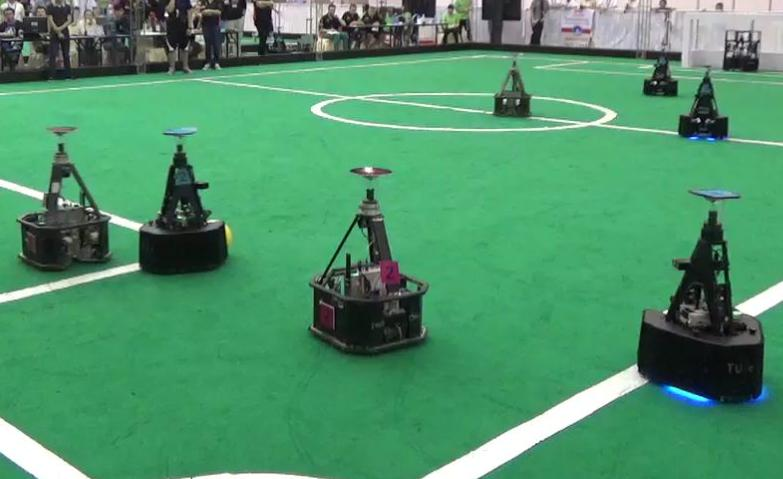robot: (629, 181, 776, 407), (302, 161, 435, 356), (132, 123, 235, 276), (13, 123, 119, 271), (673, 60, 732, 143), (490, 47, 535, 122), (642, 36, 681, 98)
